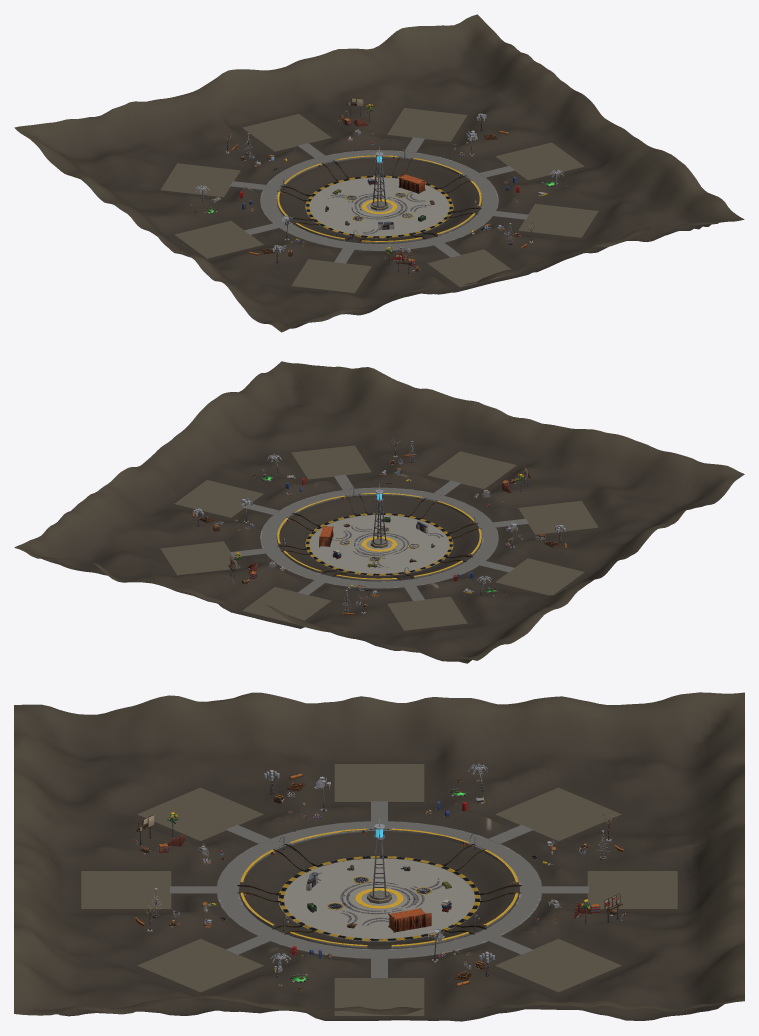
File: ServerMap.glb
The picture shows the model from 3 angles, top to bottom: view 1: azimuth 30°, elevation 25°; view 2: azimuth 150°, elevation 25°; view 3: azimuth 270°, elevation 25°; orthographic projection. The views are drawn at different scales.
Visible parts, largest first — view 1: Ground_Surface, Arena_Floor, Road_Ring, Plot3_Slab, Plot5_Slab, Plot6_Slab, Plot2_Slab, Plot8_Slab, Plot1_Slab, Plot4_Slab, Plot7_Slab, ArenaEdge_WallCap (+1 smaller); view 2: Ground_Surface, Arena_Floor, Road_Ring, Plot5_Slab, Plot4_Slab, Plot7_Slab, Plot8_Slab, Plot2_Slab, Plot6_Slab, Plot1_Slab, Plot3_Slab, ArenaEdge_WallCap (+3 smaller); view 3: Ground_Surface, Arena_Floor, Road_Ring, Plot5_Slab, Plot2_Slab, Plot8_Slab, Plot4_Slab, Plot6_Slab, Plot7_Slab, Plot3_Slab, Plot1_Slab, ArenaEdge_WallCap (+7 smaller).
Part boxes in pixels (bbox=[...]): Ground_Surface: bbox=[14, 14, 744, 332]; Arena_Floor: bbox=[305, 177, 453, 238]; Road_Ring: bbox=[260, 150, 498, 250]; Plot3_Slab: bbox=[242, 114, 331, 151]; Plot5_Slab: bbox=[174, 220, 263, 258]; Plot6_Slab: bbox=[291, 259, 371, 293]; Plot2_Slab: bbox=[387, 108, 467, 141]; Plot8_Slab: bbox=[518, 203, 598, 237]; Plot1_Slab: bbox=[495, 142, 584, 180]; Plot4_Slab: bbox=[160, 163, 240, 197]; Plot7_Slab: bbox=[427, 249, 511, 287]; ArenaEdge_WallCap: bbox=[277, 155, 481, 242]; Ground_Surface: bbox=[14, 361, 744, 663]; Arena_Floor: bbox=[305, 515, 453, 575]; Road_Ring: bbox=[260, 487, 498, 588]; Plot5_Slab: bbox=[495, 558, 584, 595]; Plot4_Slab: bbox=[387, 596, 467, 630]; Plot7_Slab: bbox=[427, 451, 516, 489]; Plot8_Slab: bbox=[291, 445, 371, 479]; Plot2_Slab: bbox=[160, 541, 240, 575]; Plot6_Slab: bbox=[518, 500, 598, 534]; Plot1_Slab: bbox=[174, 480, 263, 517]; Plot3_Slab: bbox=[242, 587, 331, 623]; ArenaEdge_WallCap: bbox=[277, 493, 481, 579]; Ground_Surface: bbox=[14, 692, 744, 1021]; Arena_Floor: bbox=[278, 856, 480, 941]; Road_Ring: bbox=[217, 821, 541, 958]; Plot5_Slab: bbox=[334, 764, 424, 802]; Plot2_Slab: bbox=[495, 938, 621, 992]; Plot8_Slab: bbox=[137, 938, 263, 992]; Plot4_Slab: bbox=[495, 787, 621, 841]; Plot6_Slab: bbox=[137, 787, 263, 841]; Plot7_Slab: bbox=[81, 871, 171, 908]; Plot3_Slab: bbox=[587, 871, 677, 908]; Plot1_Slab: bbox=[334, 978, 424, 1015]; ArenaEdge_WallCap: bbox=[240, 828, 518, 946].
Bounding box in the file's own units: 260 × 32.9 × 260.
Materials: 382 (382 with a texture image).
